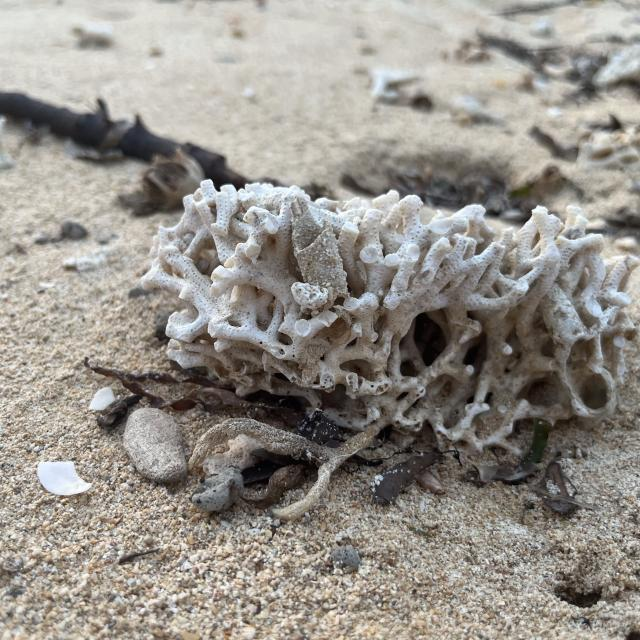coral: (145, 178, 634, 453)
stick: (0, 86, 259, 186)
